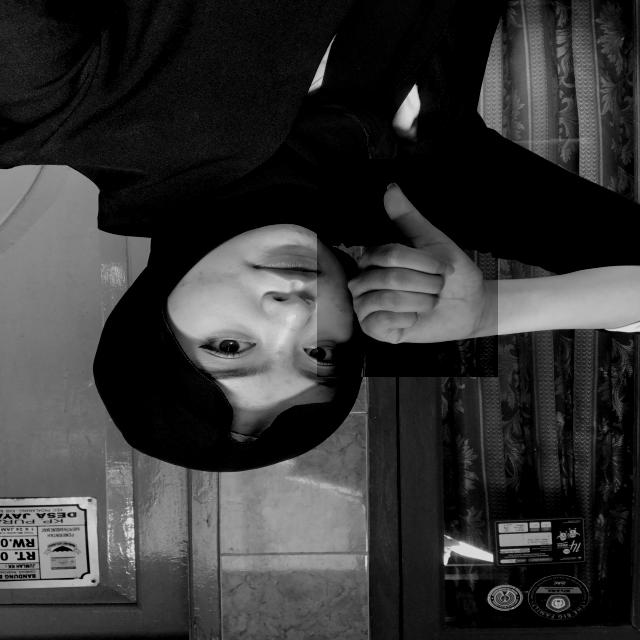sedih: (318, 159, 500, 377)
